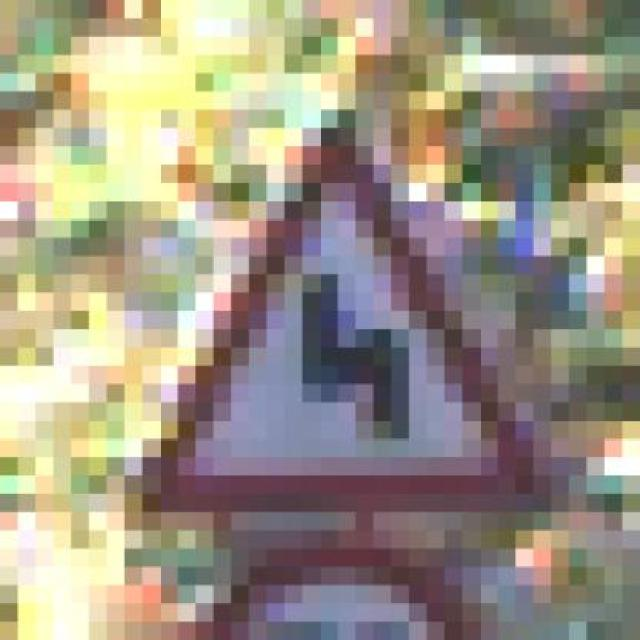Left Zig Zag Traffic: (142, 73, 533, 530)
